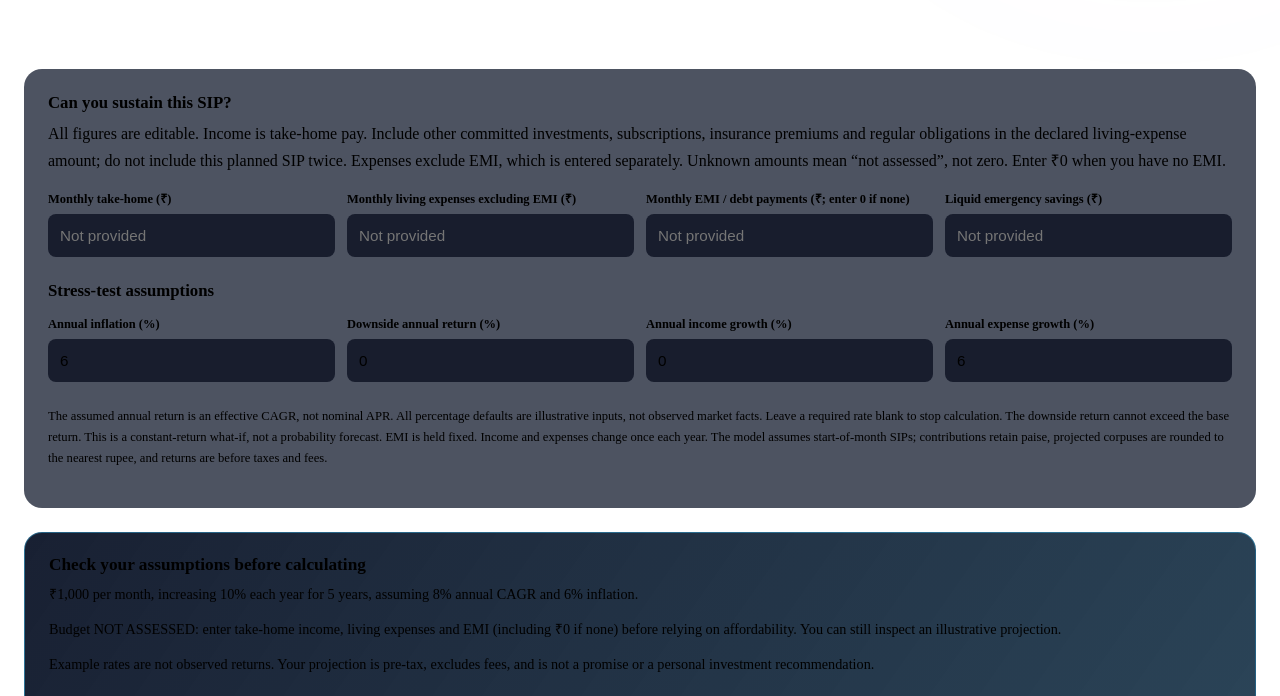
it: does not send a misleading downside scenario stronger than the base return
(page scrolled)
Replace the text in the number field labelled "Downside annual return (%)" with "20" at (490, 360), box [347, 339, 634, 382]
(page scrolled)
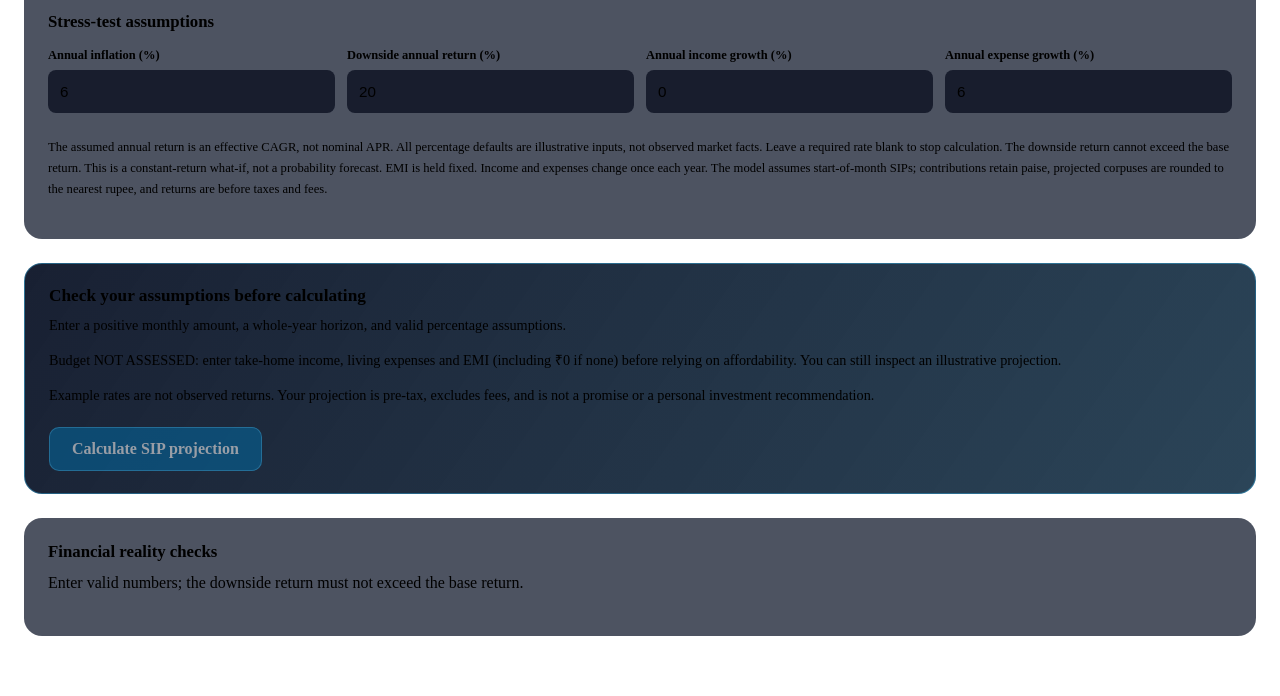
Now the text "the downside return must not exceed the base return" is shown, box [48, 574, 523, 591]
